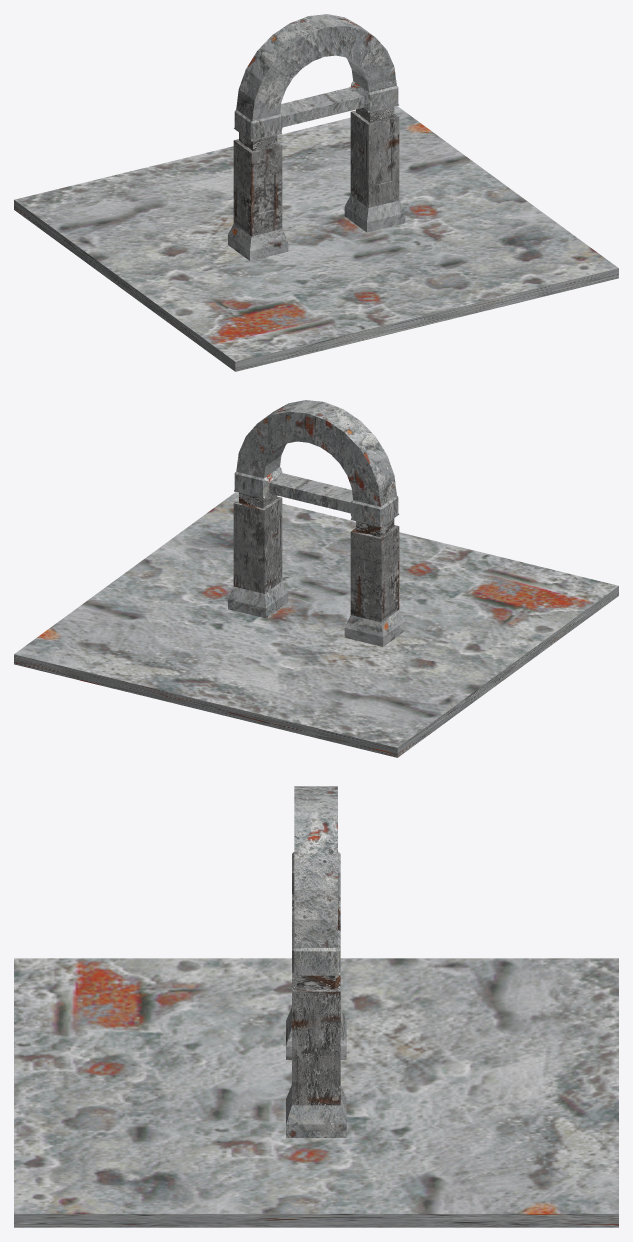
The model's file is Arc.fbx.
The picture shows the model from 3 angles, top to bottom: view 1: azimuth 30°, elevation 25°; view 2: azimuth 150°, elevation 25°; view 3: azimuth 270°, elevation 25°; orthographic projection. The views are drawn at different scales.
Parts seen in each view (by area): view 1: Cube, Cube.001; view 2: Cube, Cube.001; view 3: Cube, Cube.001.
Boxes of the visible parts, bbox=[...] form: Cube: bbox=[14, 106, 618, 371]; Cube.001: bbox=[228, 14, 405, 260]; Cube: bbox=[14, 492, 618, 757]; Cube.001: bbox=[228, 400, 405, 646]; Cube: bbox=[14, 958, 618, 1227]; Cube.001: bbox=[286, 786, 346, 1137].
Size of the model in its own units: 2000 by 1107 by 2000.
